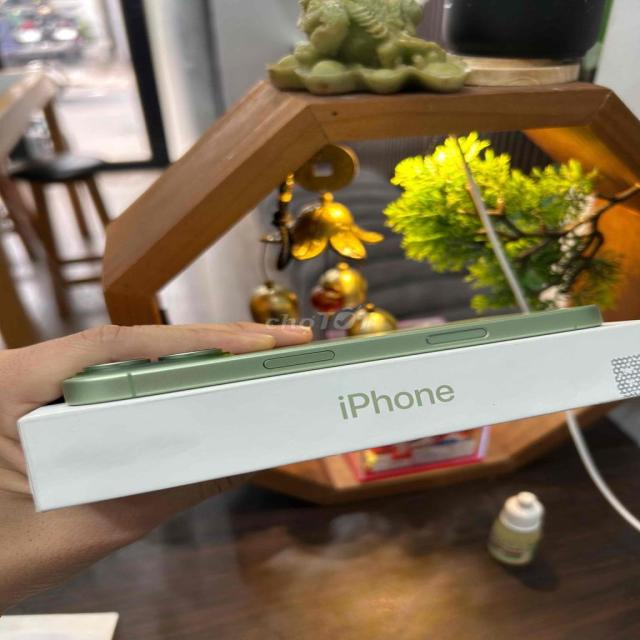gen_17: (62, 306, 600, 406)
